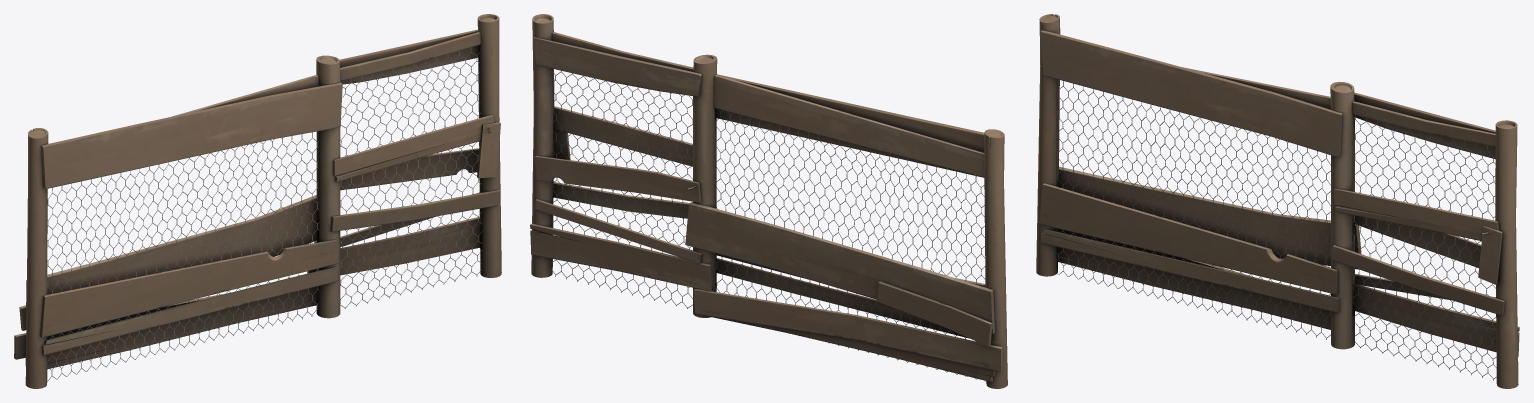
The picture shows the model from 3 angles, left to right: view 1: azimuth 30°, elevation 25°; view 2: azimuth 150°, elevation 25°; view 3: azimuth 330°, elevation 25°; orthographic projection.
Parts seen in each view (by area): view 1: body0_model0_lod0_mesh1, body0_model0_lod0_mesh0; view 2: body0_model0_lod0_mesh1, body0_model0_lod0_mesh0; view 3: body0_model0_lod0_mesh1, body0_model0_lod0_mesh0.
Part boxes in pixels (x1,y1,x2,y2): body0_model0_lod0_mesh1: (14, 14, 501, 388); body0_model0_lod0_mesh0: (47, 47, 482, 381); body0_model0_lod0_mesh1: (530, 14, 1007, 388); body0_model0_lod0_mesh0: (551, 70, 985, 381); body0_model0_lod0_mesh1: (1036, 14, 1519, 388); body0_model0_lod0_mesh0: (1056, 81, 1496, 380).
Size of the model in its own units: 261 by 134 by 24.46.
Materials: 2 (2 with a texture image).
